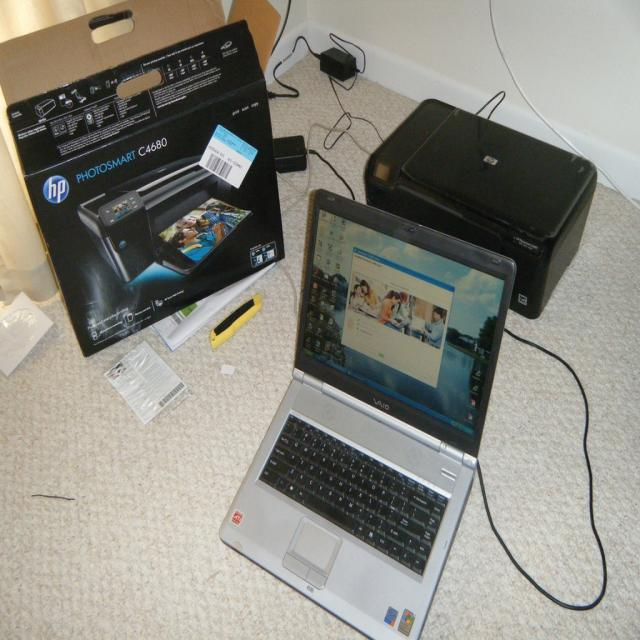HP: (44, 176, 72, 205)
